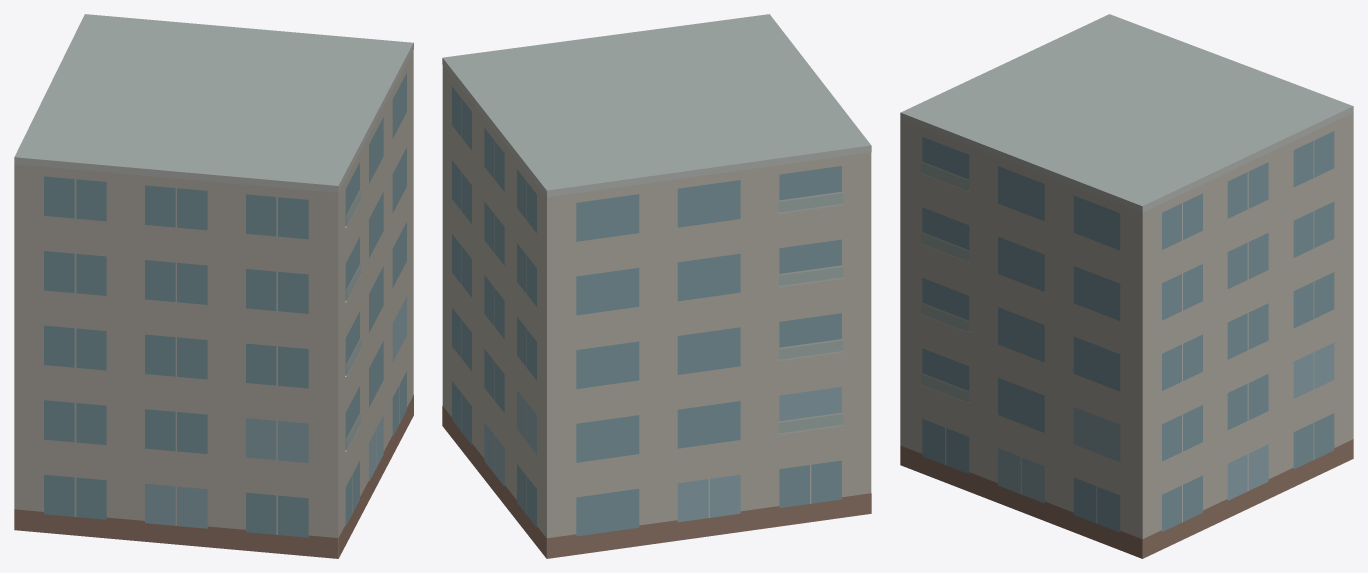
Rendered from survey-upis-32536776.glb.
The picture shows the model from 3 angles, left to right: view 1: azimuth 30°, elevation 25°; view 2: azimuth 150°, elevation 25°; view 3: azimuth 270°, elevation 25°; orthographic projection. The views are drawn at different scales.
Visible parts, largest first — view 1: survey-upis-32536776.tmp; view 2: survey-upis-32536776.tmp; view 3: survey-upis-32536776.tmp.
Part boxes in pixels (<box>): survey-upis-32536776.tmp: <box>14,14,413,558</box>; survey-upis-32536776.tmp: <box>442,14,871,558</box>; survey-upis-32536776.tmp: <box>900,14,1353,558</box>.
Bounding box in the file's own units: 15.45 × 13.2 × 15.38.
